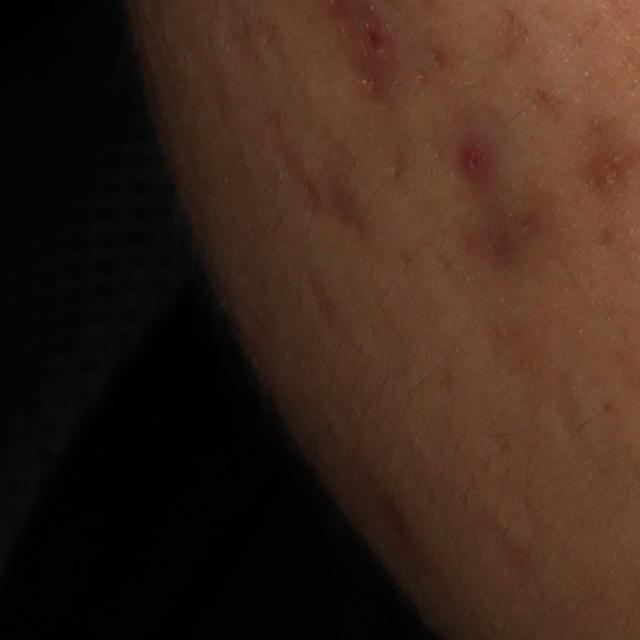papule: (356, 15, 399, 64), (457, 139, 492, 181)
